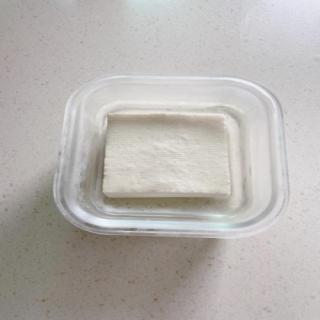Tahu: (103, 113, 231, 198)
